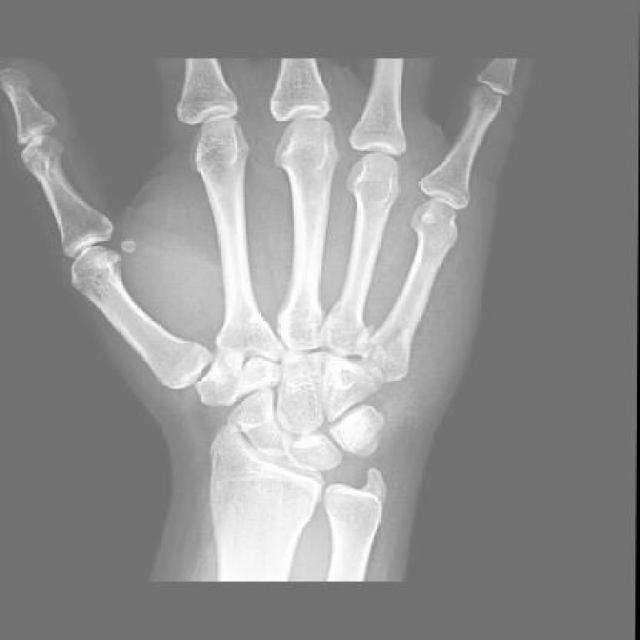Fracture: (360, 323, 411, 377)
